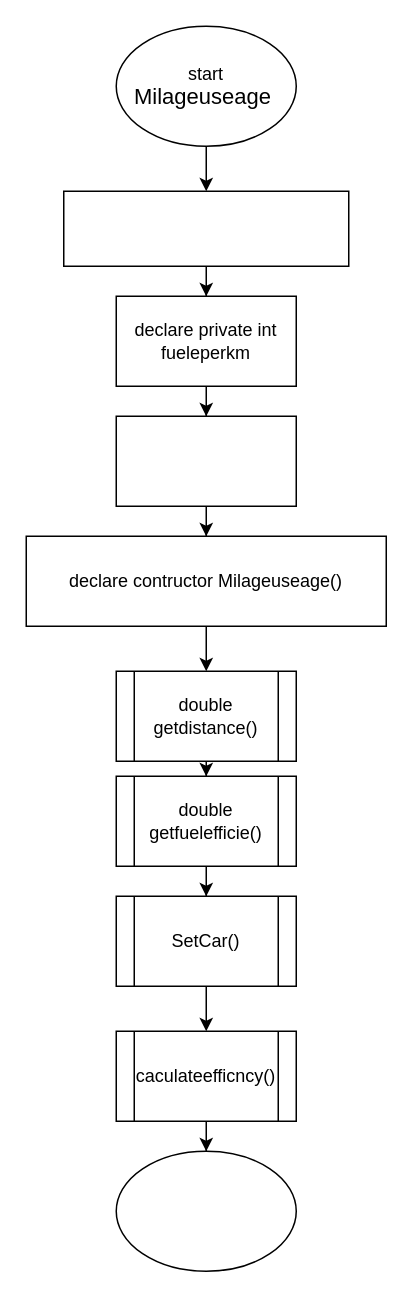
This 413x1298 diagram has some shape labels left out. The shapes that lost their labels are listed below. From the top down, each one's centre as x and y in pixels, then its label:
At pixel 205 228: "declacre private double distance,fuelefficiency".
At pixel 205 460: "initlaize fueleperkm=100".
At pixel 205 1210: "End".
